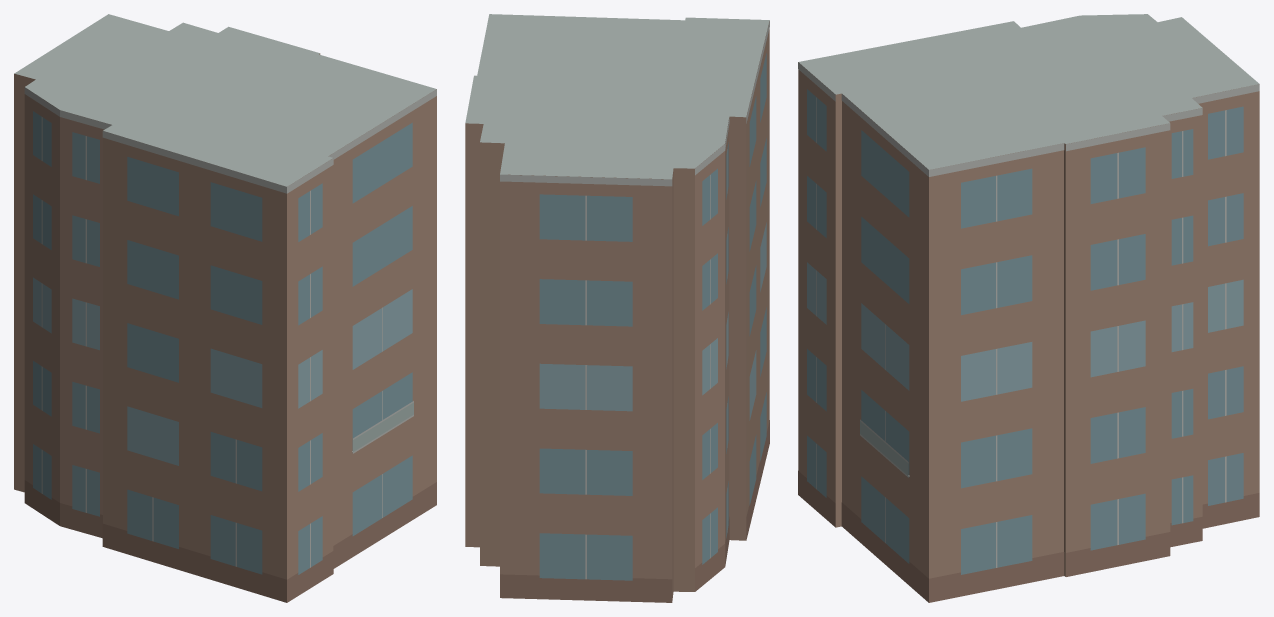
The model's file is survey-upis-32739166.glb.
The picture shows the model from 3 angles, left to right: view 1: azimuth 30°, elevation 25°; view 2: azimuth 150°, elevation 25°; view 3: azimuth 270°, elevation 25°; orthographic projection. The views are drawn at different scales.
Parts seen in each view (by area): view 1: survey-upis-32739166.tmp; view 2: survey-upis-32739166.tmp; view 3: survey-upis-32739166.tmp.
Part boxes in pixels (<box>): survey-upis-32739166.tmp: <box>14,14,436,602</box>; survey-upis-32739166.tmp: <box>465,14,769,602</box>; survey-upis-32739166.tmp: <box>798,14,1259,602</box>.
Bounding box in the file's own units: 11.4 × 14.75 × 14.26.
